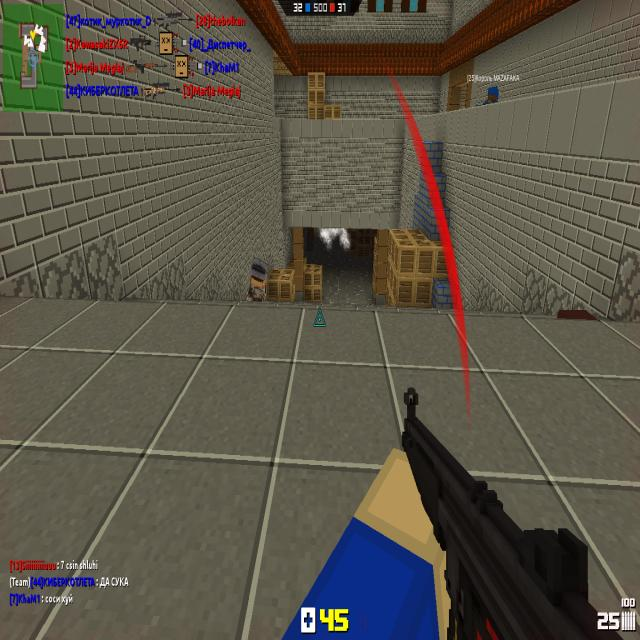enemy: (246, 257, 267, 301)
